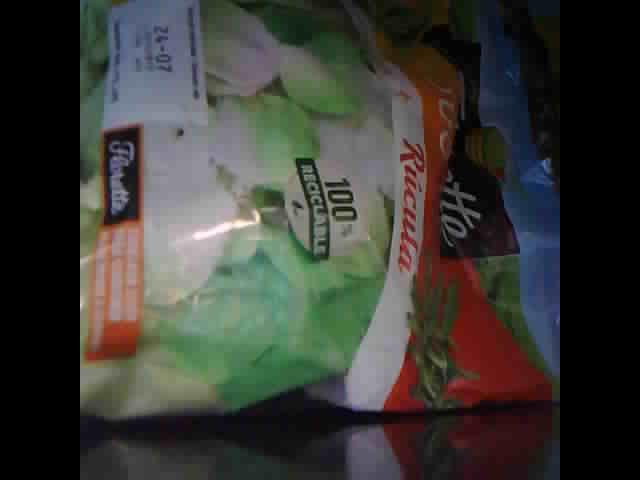florette: (82, 6, 556, 427)
